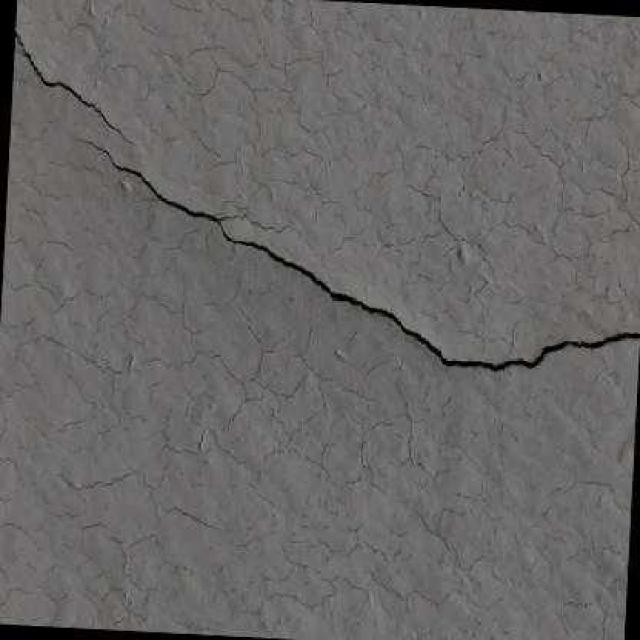D00: (75, 138, 640, 374), (14, 29, 135, 145)
